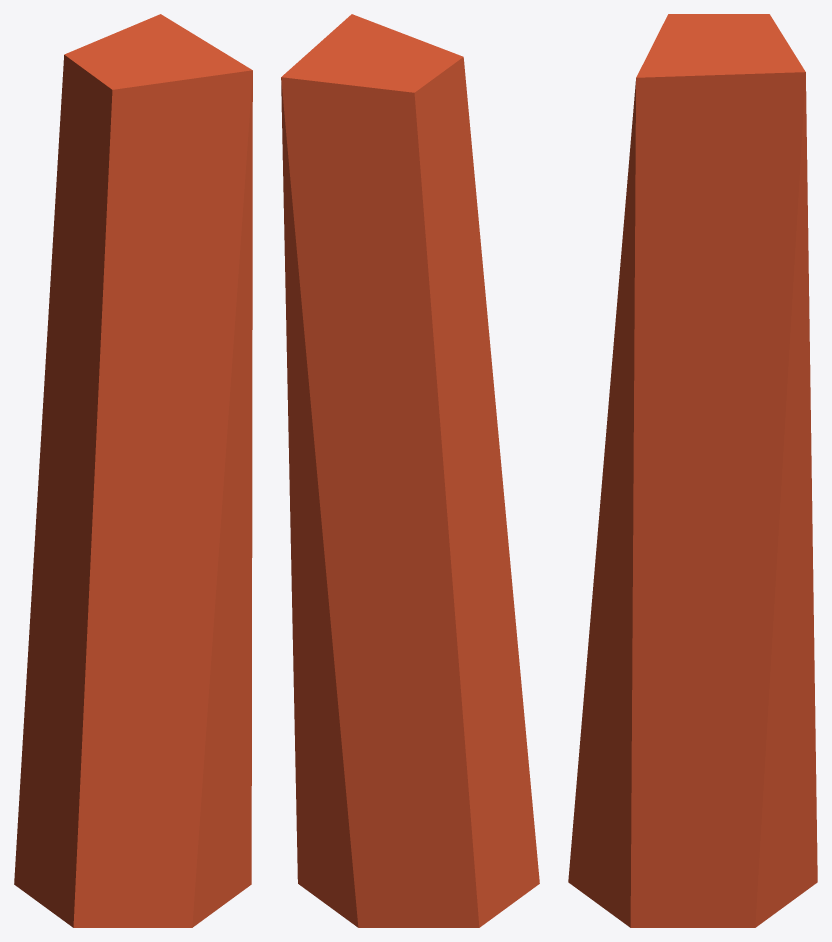
Rendered from Mahogany Log.fbx.
3 renders of one model, left to right at view 1: azimuth 30°, elevation 25°; view 2: azimuth 150°, elevation 25°; view 3: azimuth 270°, elevation 25°, orthographic. The views are drawn at different scales.
Visible parts, largest first — view 1: Mahogany; view 2: Mahogany; view 3: Mahogany.
Boxes of the visible parts, left/top/right/bottom form: Mahogany: left=14, top=14, right=252, bottom=927; Mahogany: left=281, top=14, right=539, bottom=927; Mahogany: left=568, top=14, right=817, bottom=927.
Size of the model in its own units: 260 by 294 by 1109.
